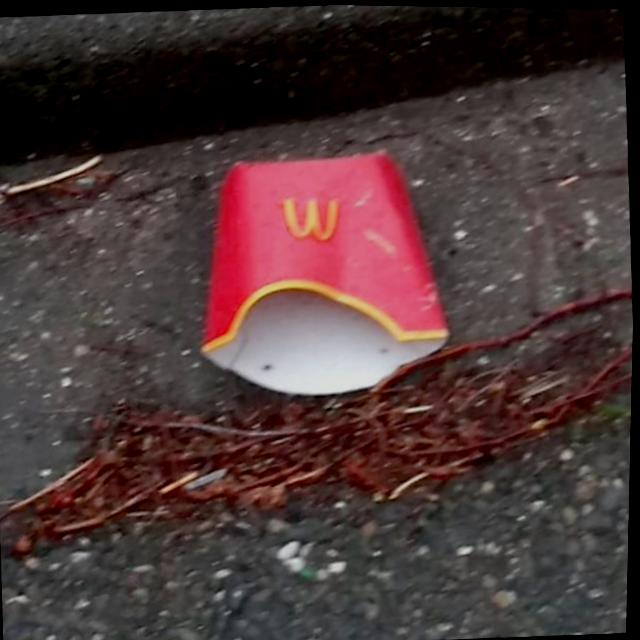Paper: (184, 137, 459, 405)
